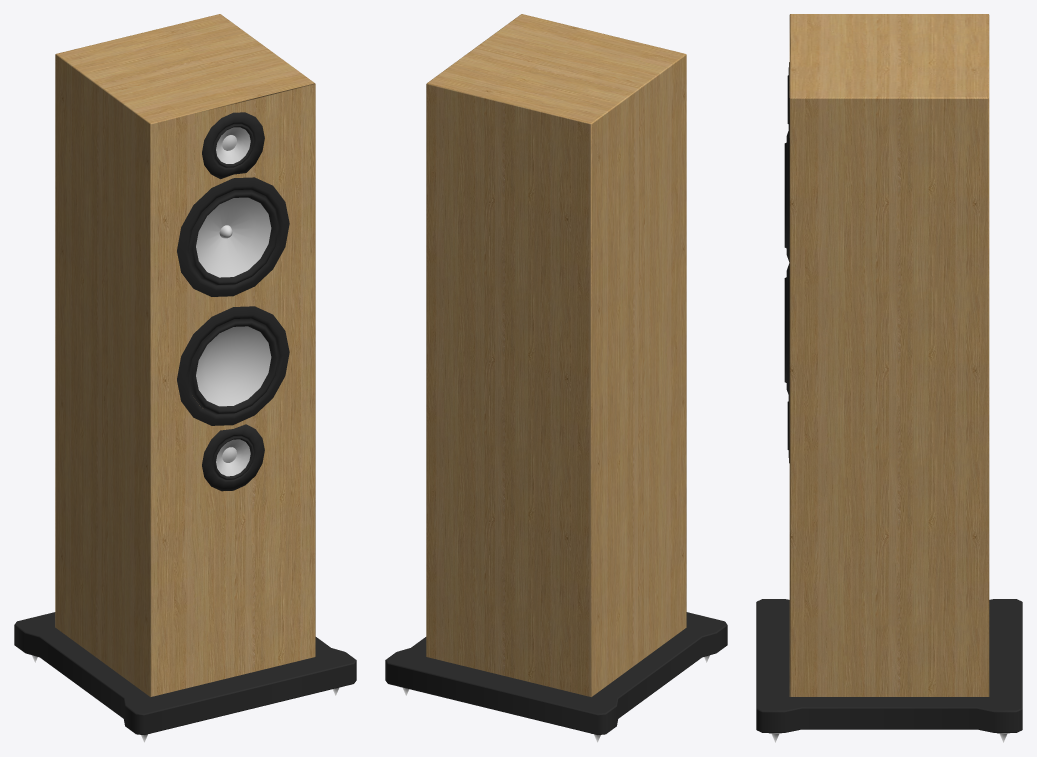
3 views of the same model, side by side, from view 1: azimuth 30°, elevation 25°; view 2: azimuth 150°, elevation 25°; view 3: azimuth 270°, elevation 25° (orthographic). The views are drawn at different scales.
Parts seen in each view (by area): view 1: Node; view 2: Node; view 3: Node.
Boxes of the visible parts, <box> form: Node: <box>14,14,356,742</box>; Node: <box>385,14,727,742</box>; Node: <box>756,14,1022,742</box>.
Size of the model in its own units: 0.3669 by 0.9699 by 0.3669.
Materials: 4 (1 with a texture image).
